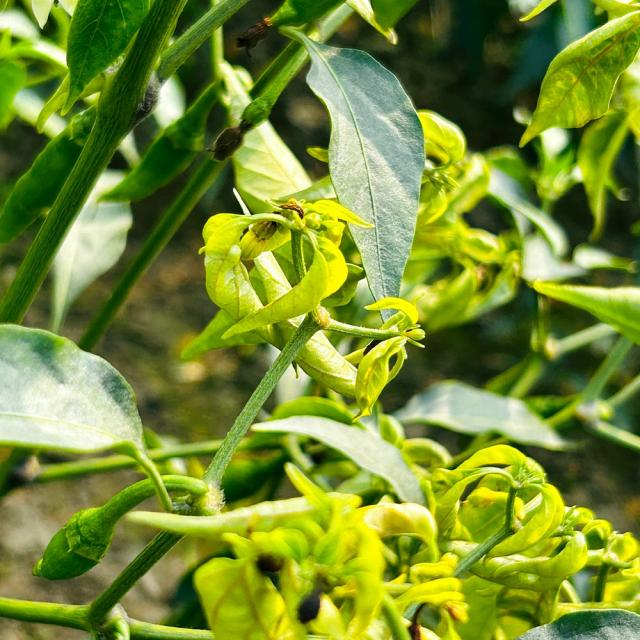Chilli_Leaf_Curl: (1, 1, 638, 638), (192, 443, 637, 639), (186, 186, 425, 419), (275, 24, 426, 325), (197, 189, 373, 341), (0, 322, 147, 458), (516, 0, 638, 148), (248, 414, 426, 506), (531, 277, 639, 346)
